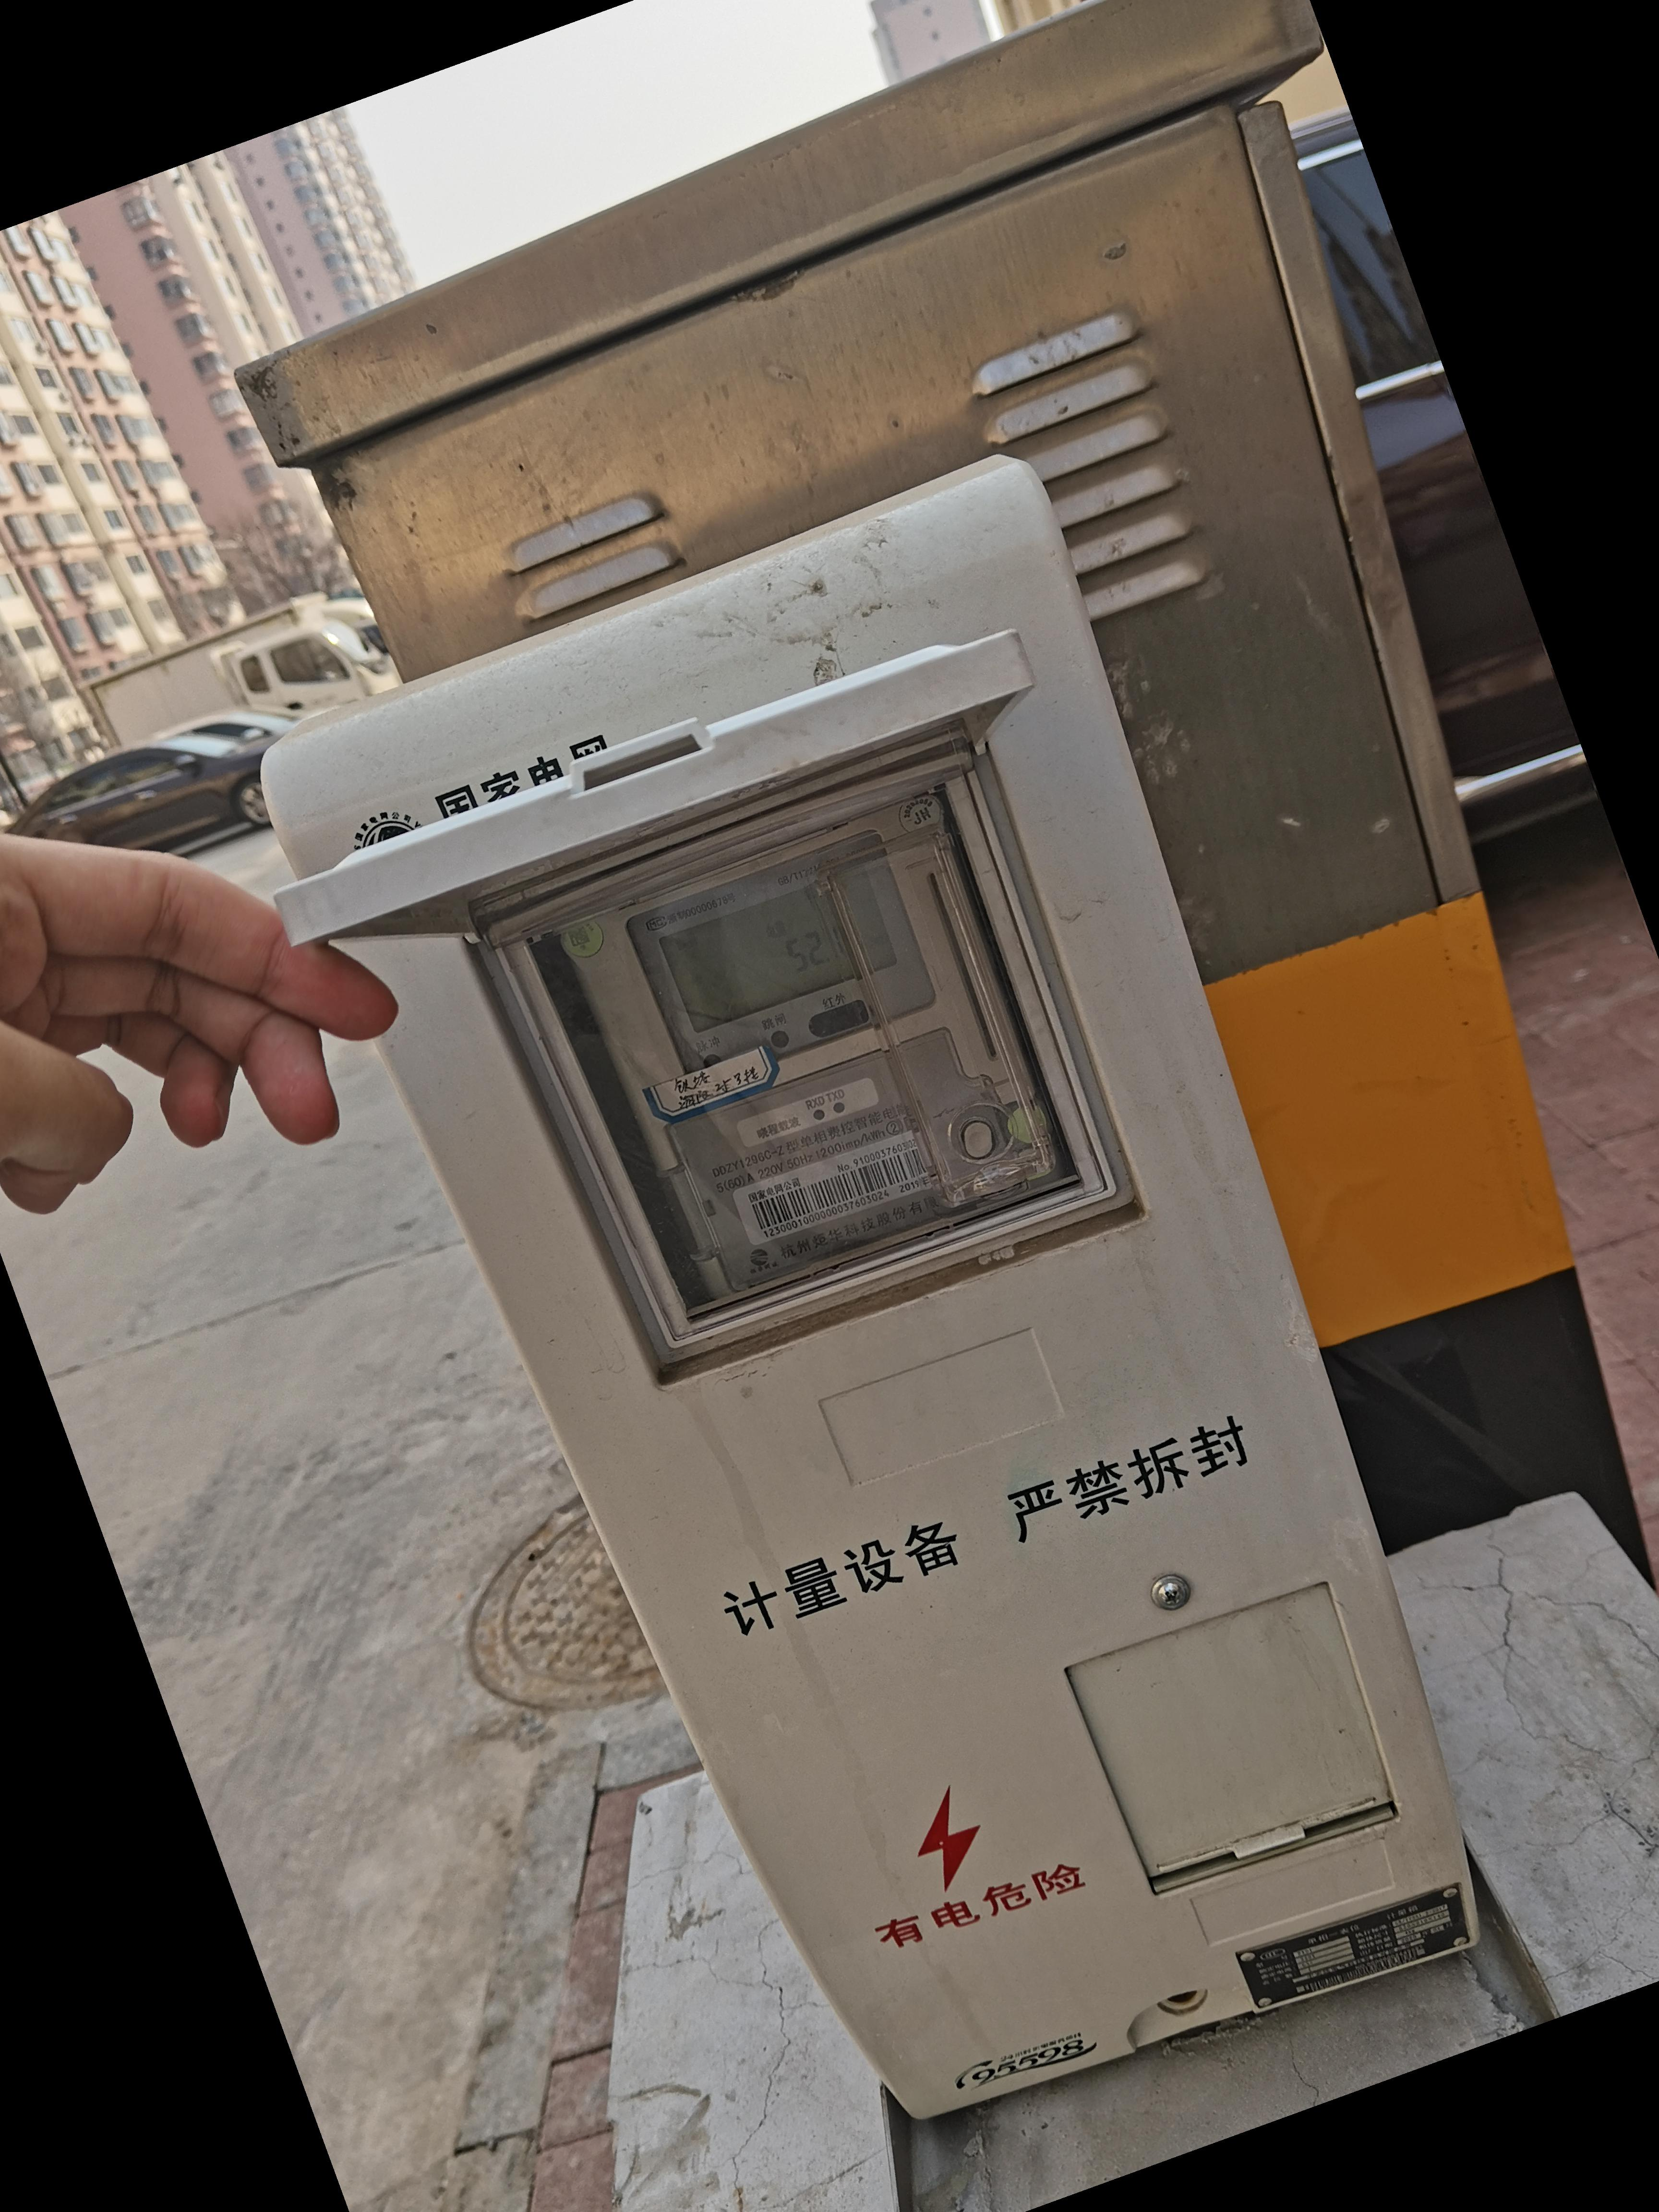digital: (568, 815, 1051, 1291)
